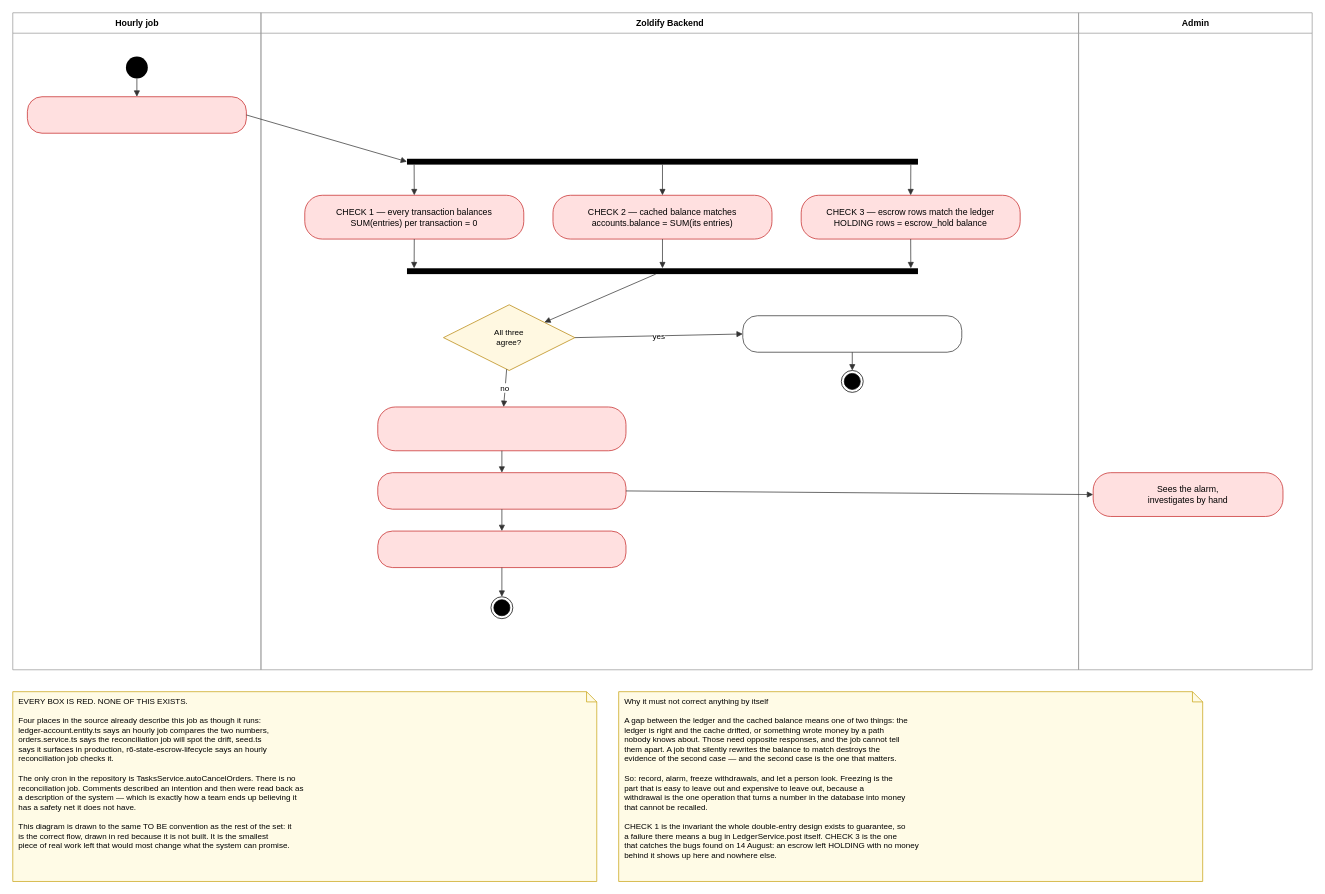
Some shapes in this 1325 by 894 pixel diagram are drawn without their labels. Each missing label, with the centre of its shape:
"Freeze withdrawals until it is cleared" belongs at [501,549].
"Log the totals, do nothing else" belongs at [852,333].
"RAISE AN ALARM — do NOT auto-correct" belongs at [501,490].
"Wake up on the hour" belongs at [136,114].
"Write a discrepancy record with the account and the gap" belongs at [501,428].
